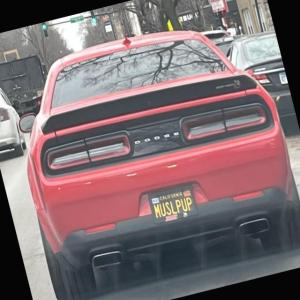Plate: (147, 185, 199, 224)
